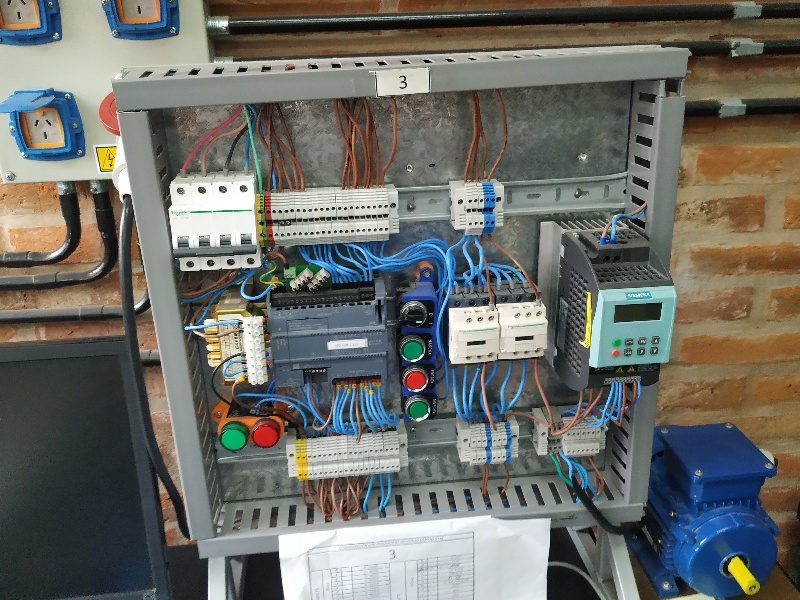Tablero 3: (130, 88, 685, 517)
